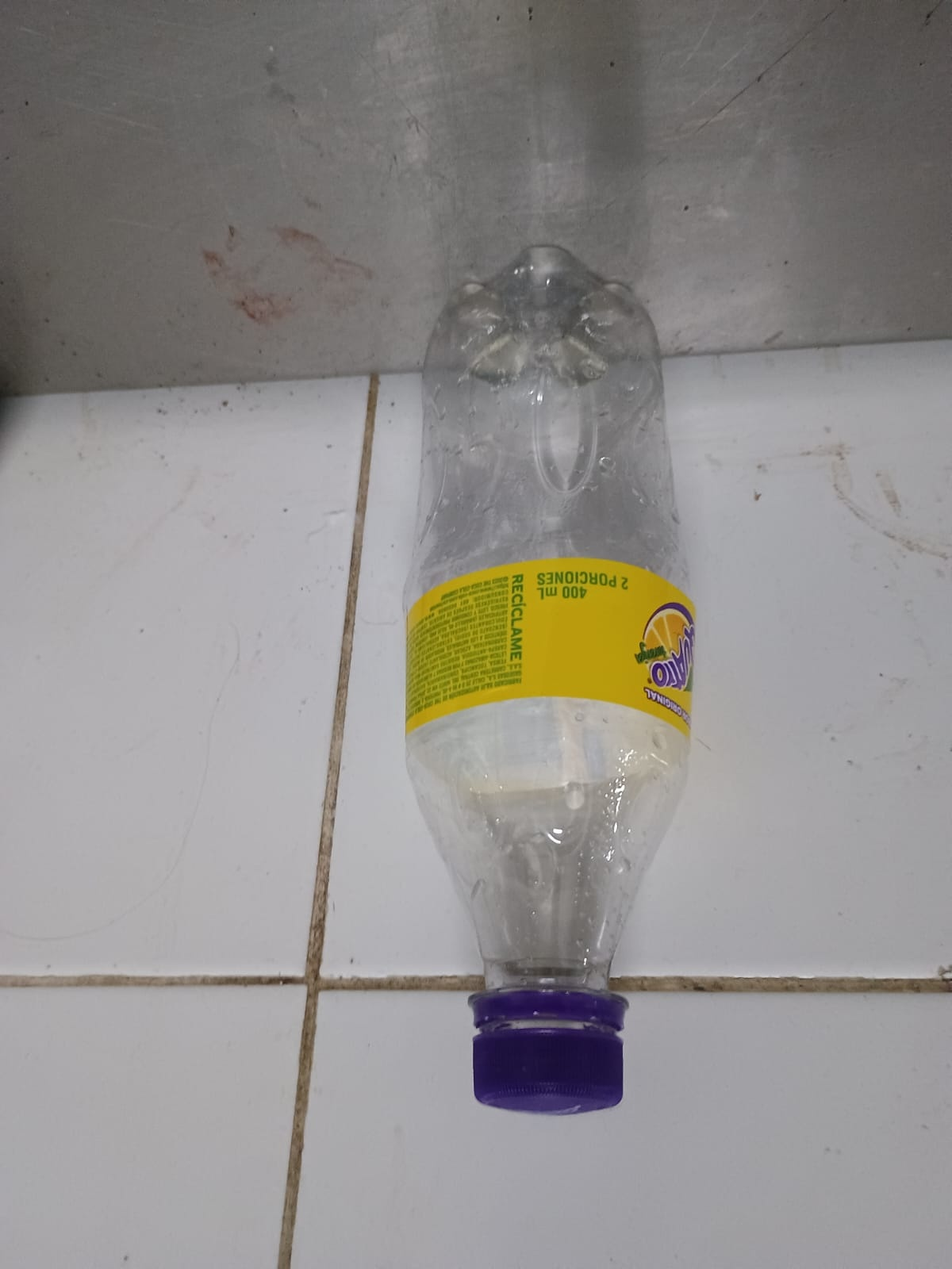Plastico: (400, 242, 696, 1111)
